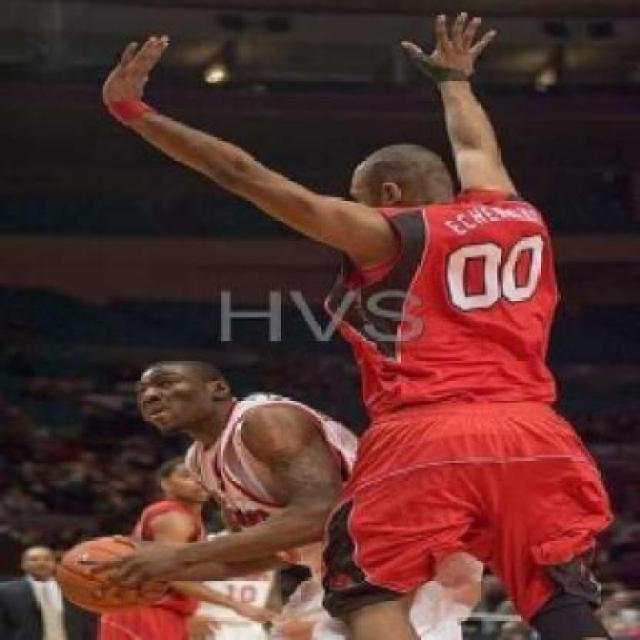basketball: (57, 528, 171, 616)
